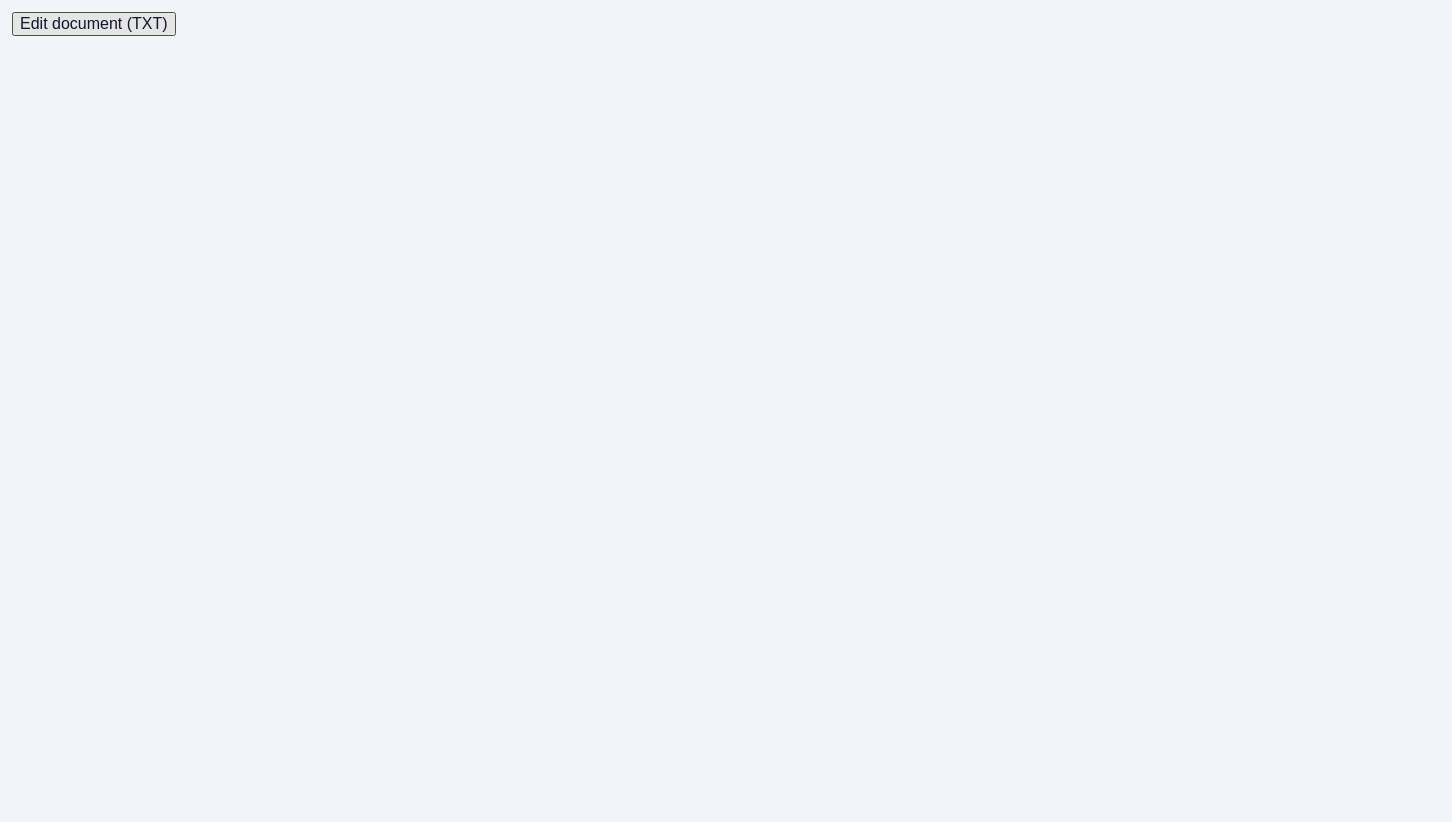
Test case: opens, saves and reopens the returned synthetic version
Click the button "Edit document (TXT)" at point(94, 24), box [12,12,176,36]
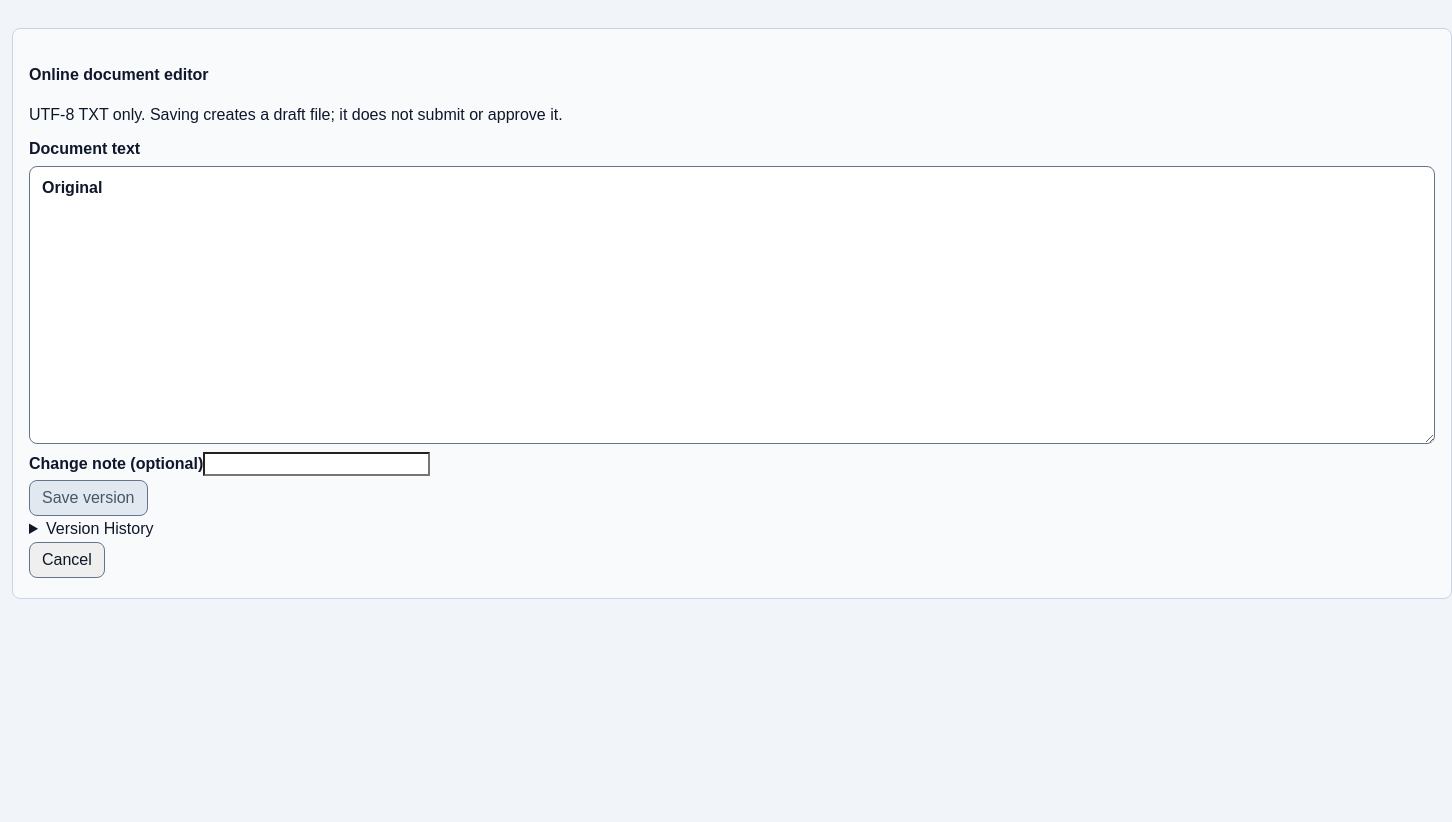
Replace the text in the text box labelled "Document text" with "New version" at point(732, 304), box [29,166,1435,444]
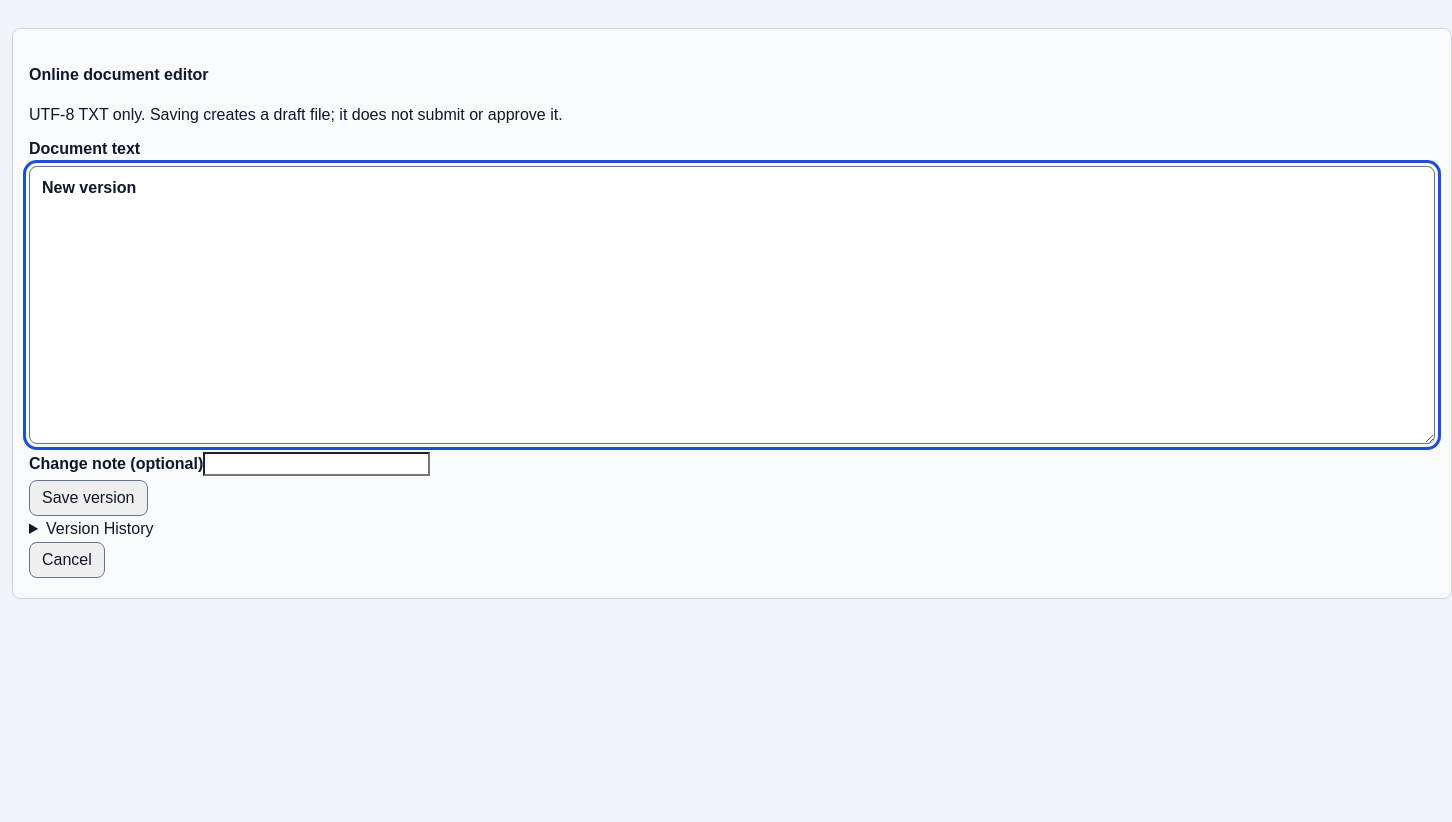
Click the button "Save version" at point(88, 498), box [29,480,148,516]
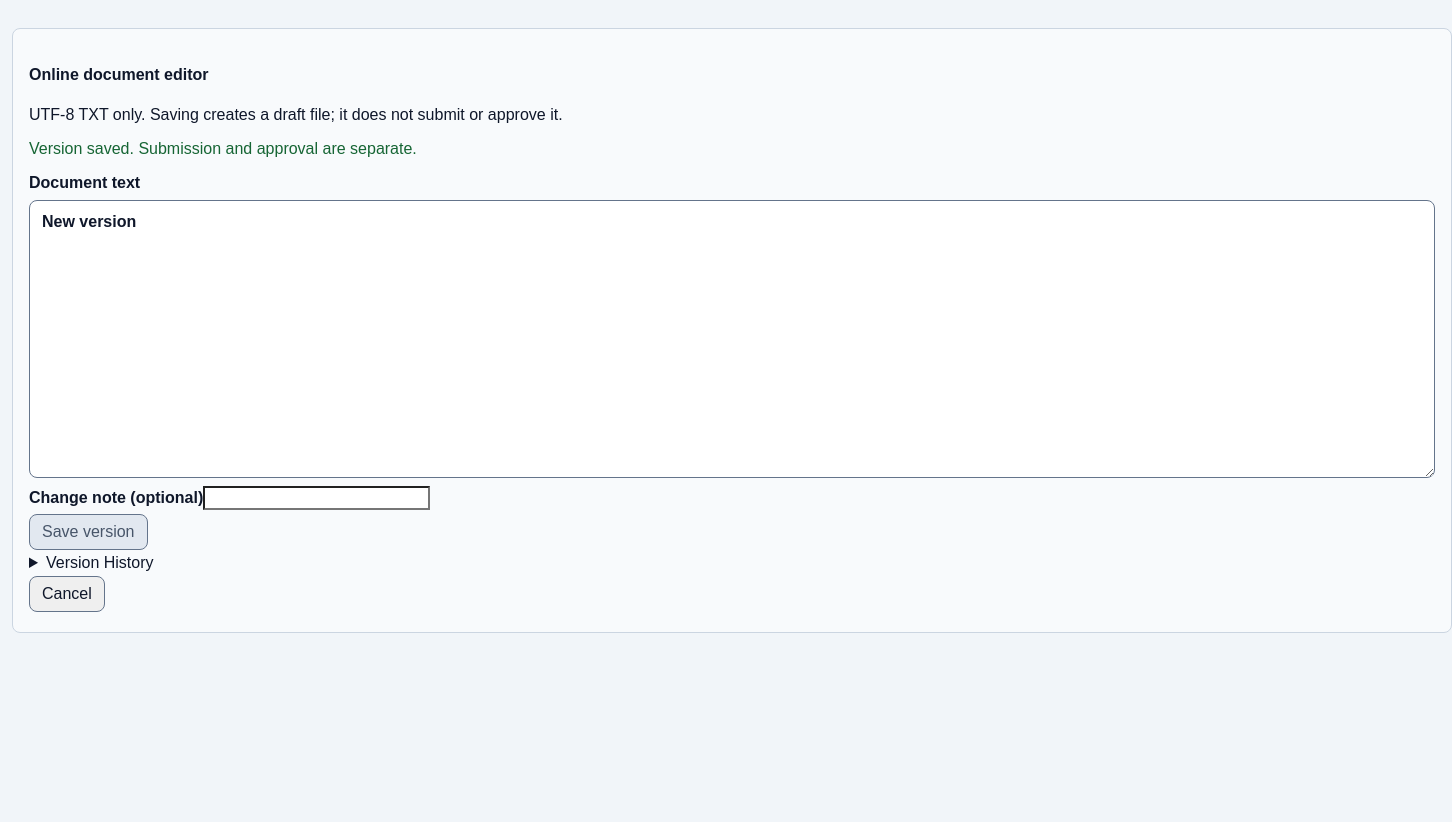
Check: the message shows "Version saved", box [29,140,417,156]
Click the heading "Version History" at point(100, 562), box [46,554,154,570]
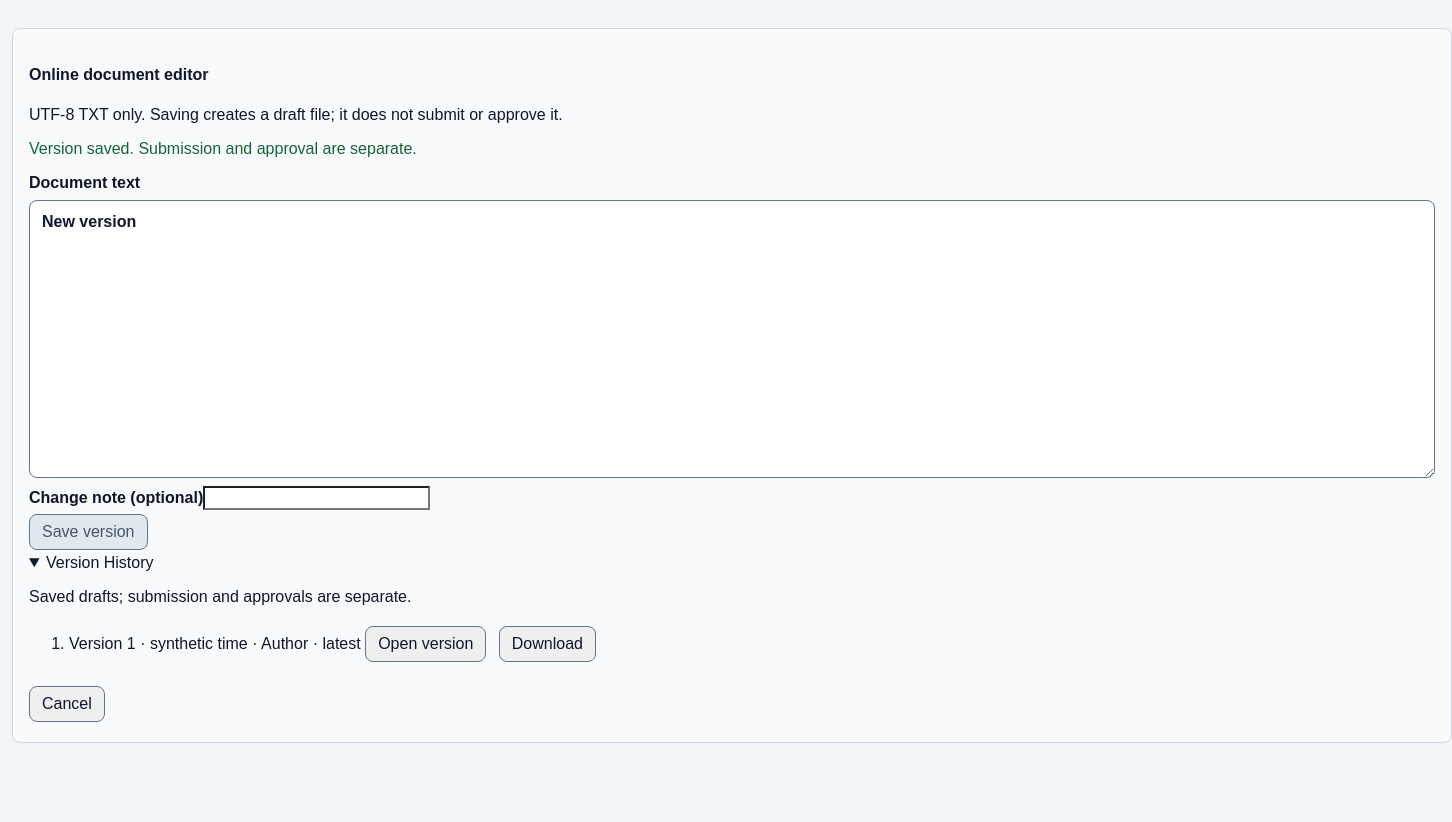
Check: the list item "synthetic time" is shown, box [150,634,248,652]
